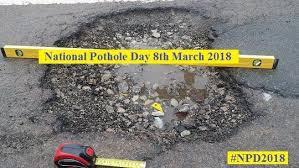pothole: (38, 66, 257, 153), (53, 3, 218, 48)
